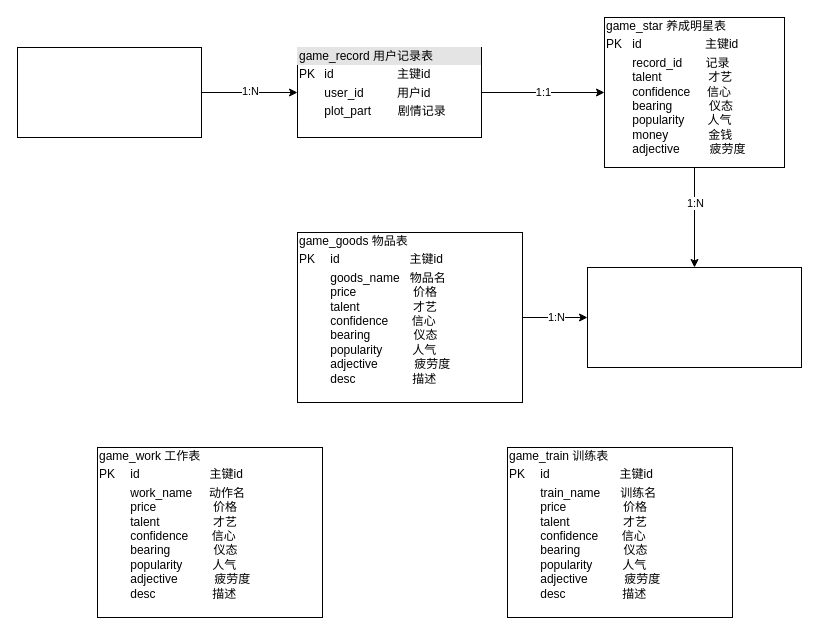
Image size: 819x635. Some labels were removed from this diagram. The centre of each missing label's shape, as x and y in pixels:
game_star_goods_rel 养成物品关系表 PK id 主键id star_id 明星id goods_id 物品id num 数量: the point at 694,317
game_user 用户信息表 PK id 主键id user_name 用户名 pwd 密码: the point at 109,92
